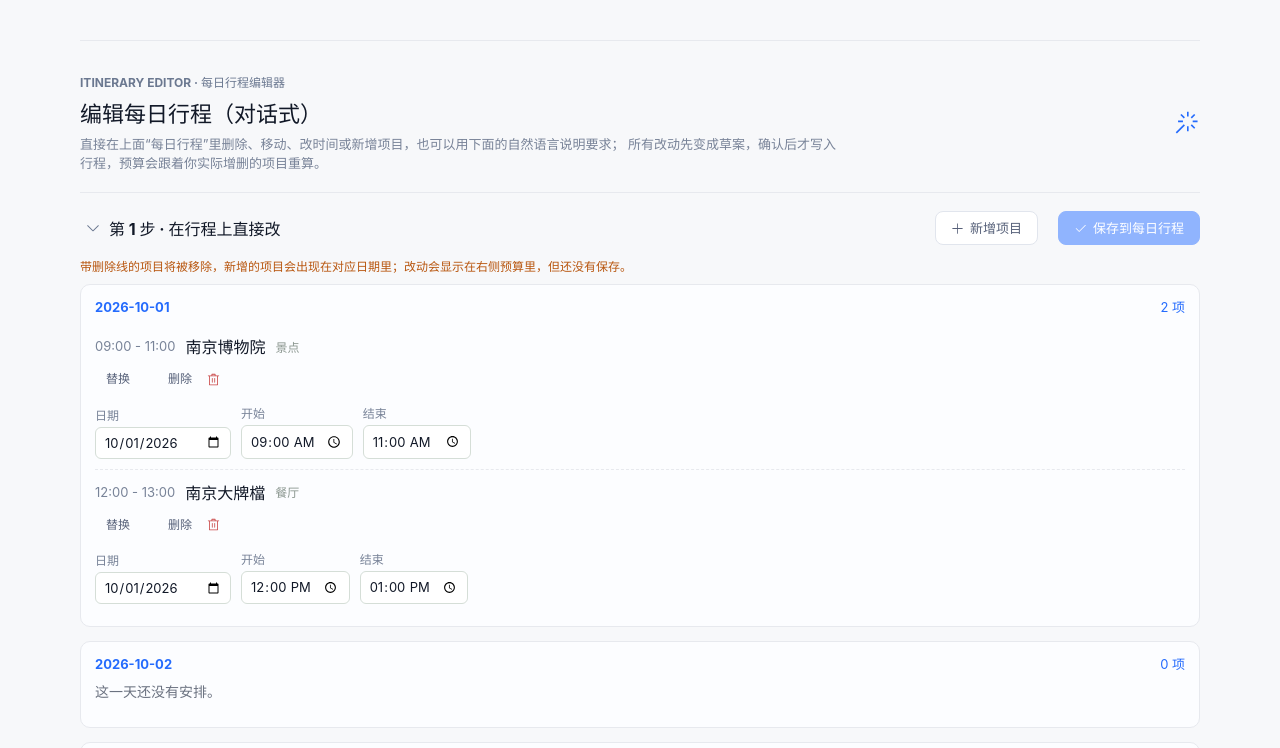
Test case: TripAdjustmentAgent daily-itinerary editing › saves the pending additions into the daily itinerary in one press
Click the button with aria-label "新增项目".
click(986, 228)  # box [935,211,1038,245]
(page scrolled)
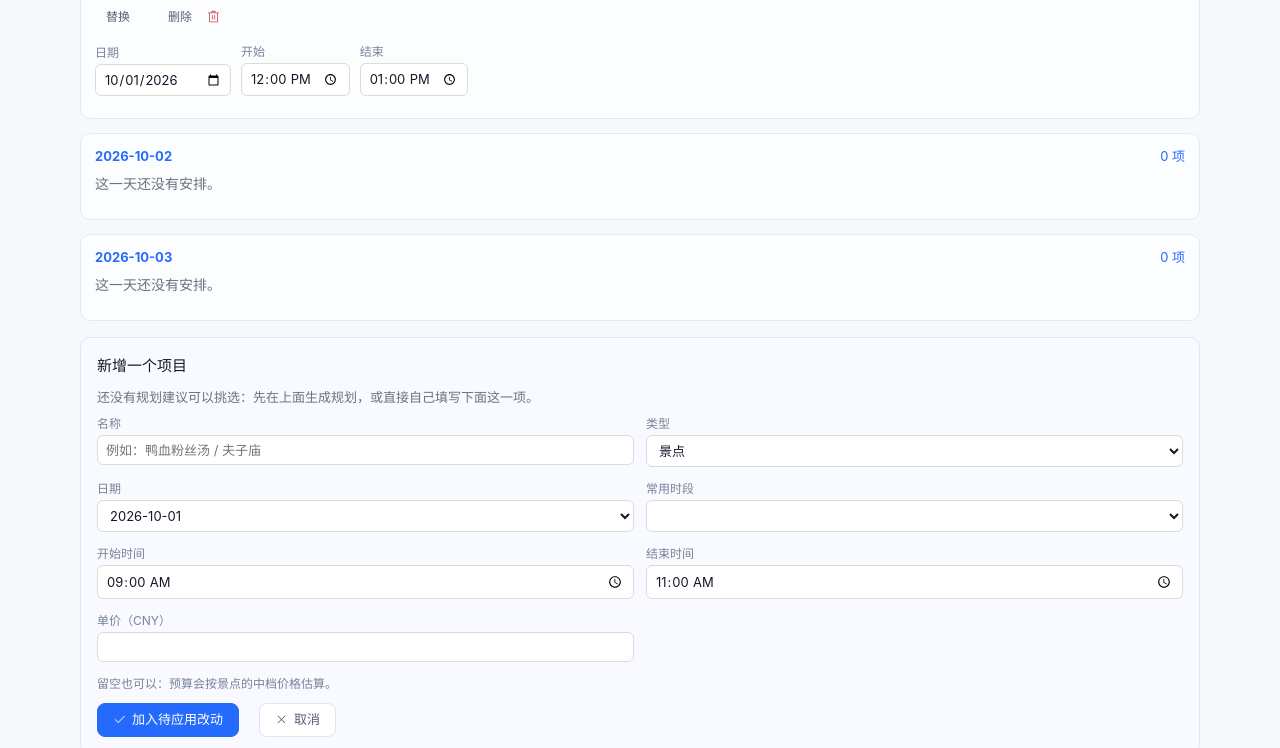
Type "老门东夜市" into the field named "新增项目名称".
click(366, 450); type("老门东夜市")  # box [97,435,634,465]
Select "餐厅" in the dropdown named "新增项目类型" at (914, 451), box [646,435,1183,467]
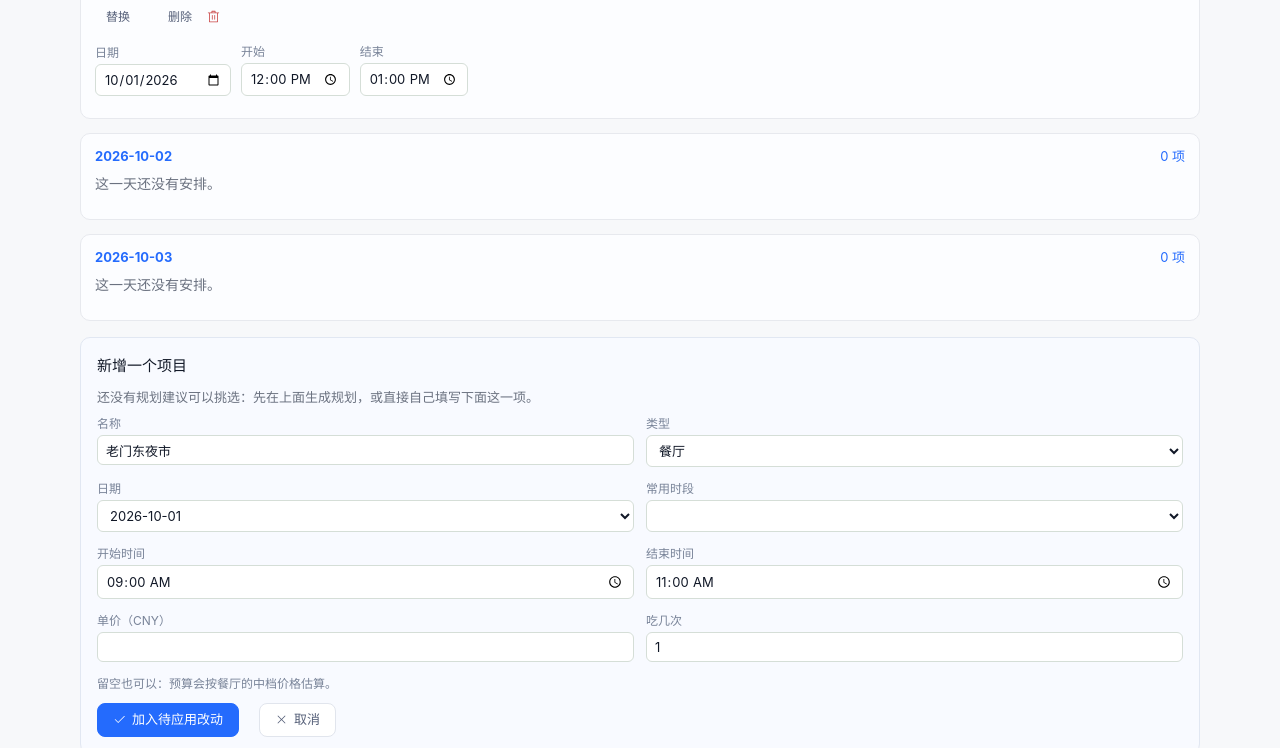
Select "2026-10-02" in the dropdown named "新增项目日期" at (366, 516), box [97,500,634,532]
Type "45" into the number field named "新增项目单价".
click(366, 647); type("45")  # box [97,632,634,662]
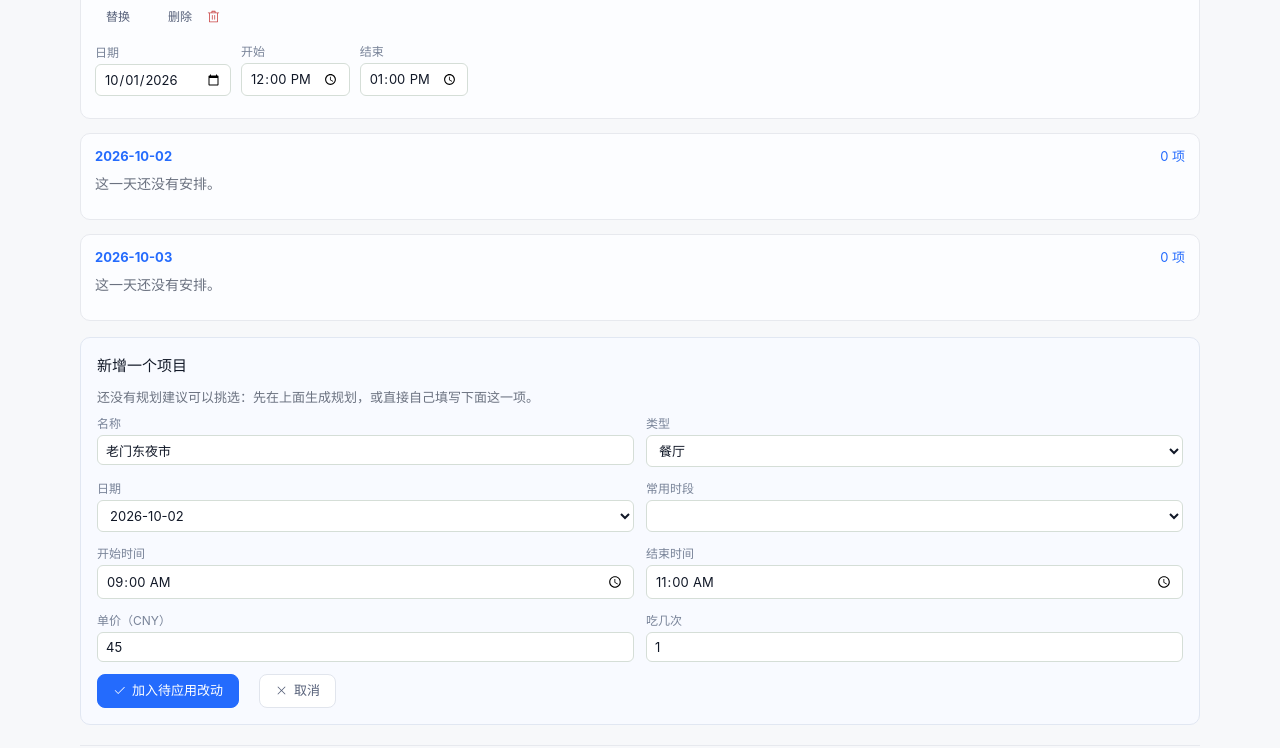
Replace the text in the number field named "新增项目次数" with "2" at (914, 647), box [646,632,1183,662]
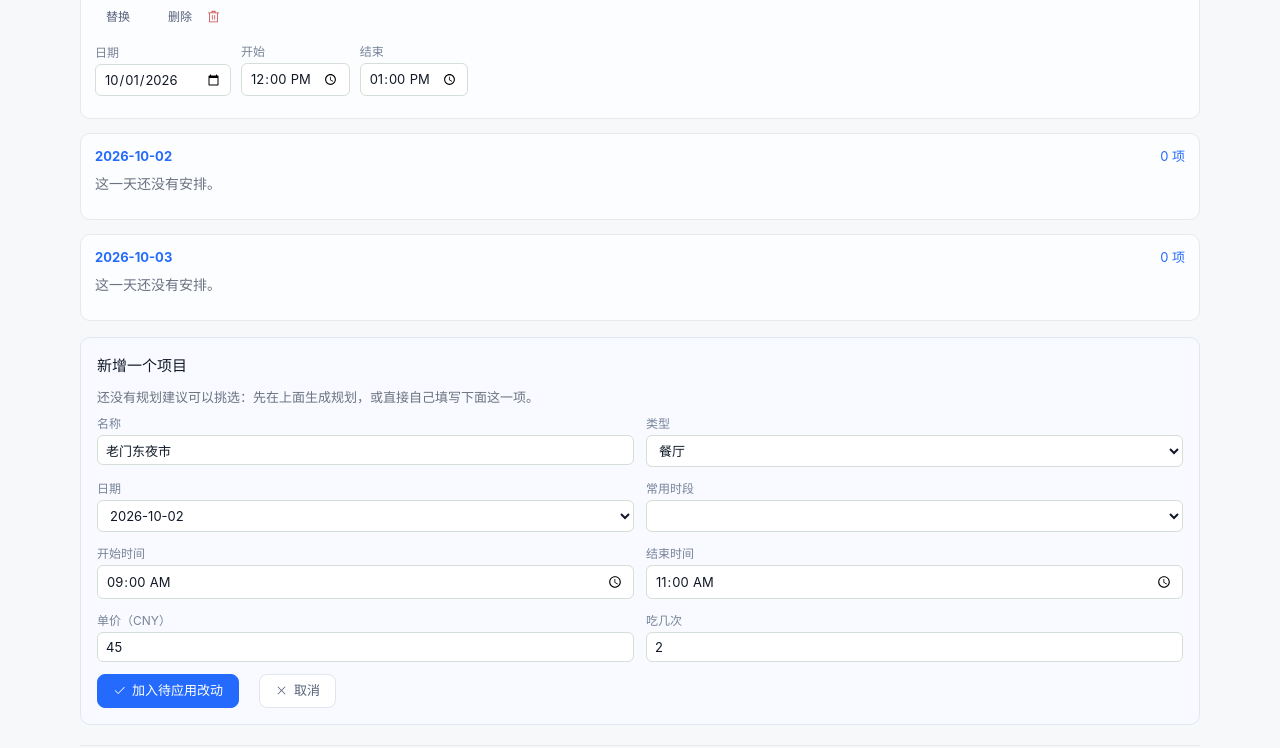
Click the button with aria-label "确认新增项目".
click(168, 691)  # box [97,674,239,708]
(page scrolled)
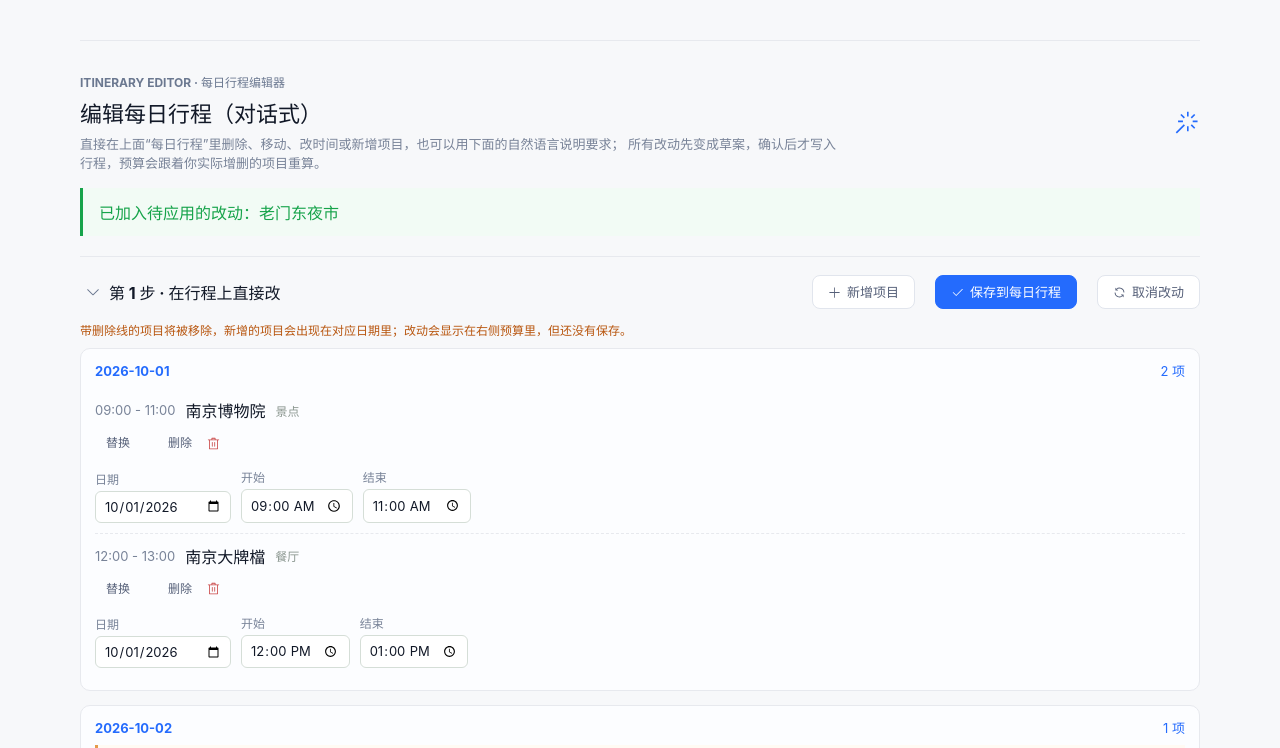
Click the button with aria-label "保存到每日行程".
click(1006, 292)  # box [935,275,1077,309]
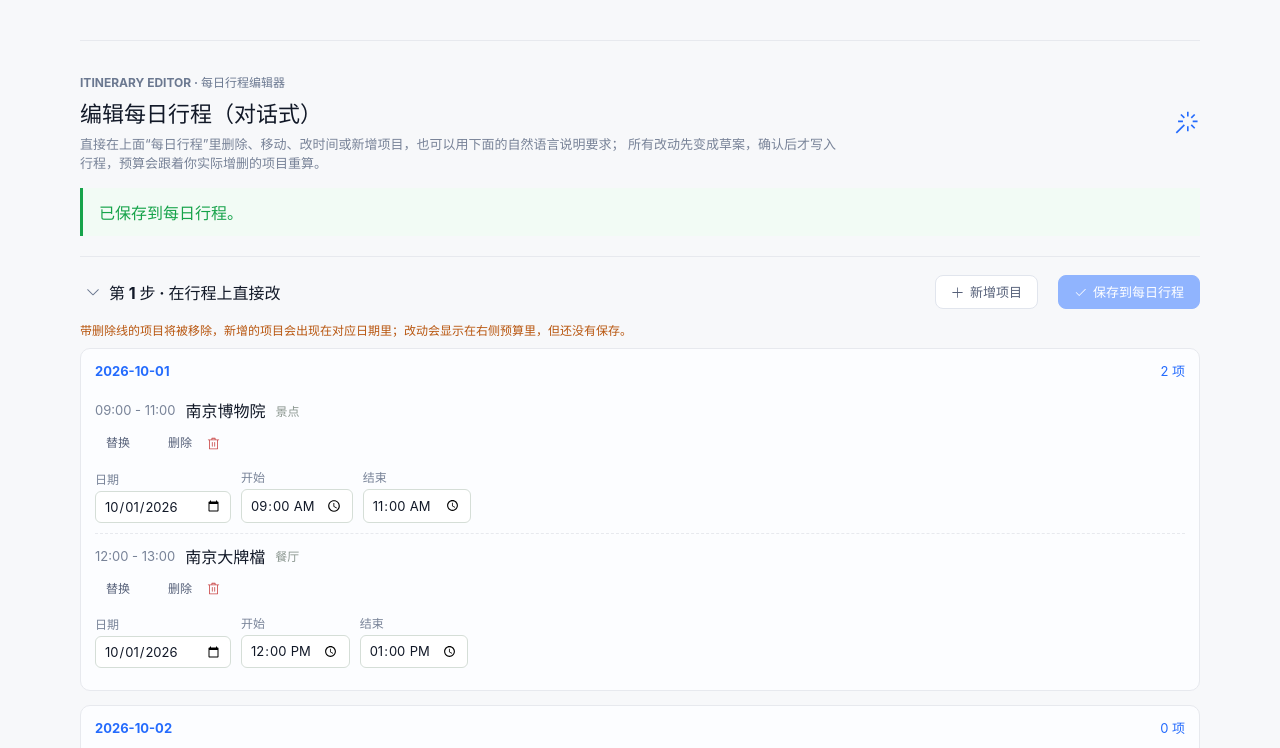
Result: the text "已保存到每日行程" is shown at [99,203,243,223]
Result: no list items with class "is-added" are shown
Result: the button with aria-label "保存到每日行程" is disabled at [1058,275,1200,309]
